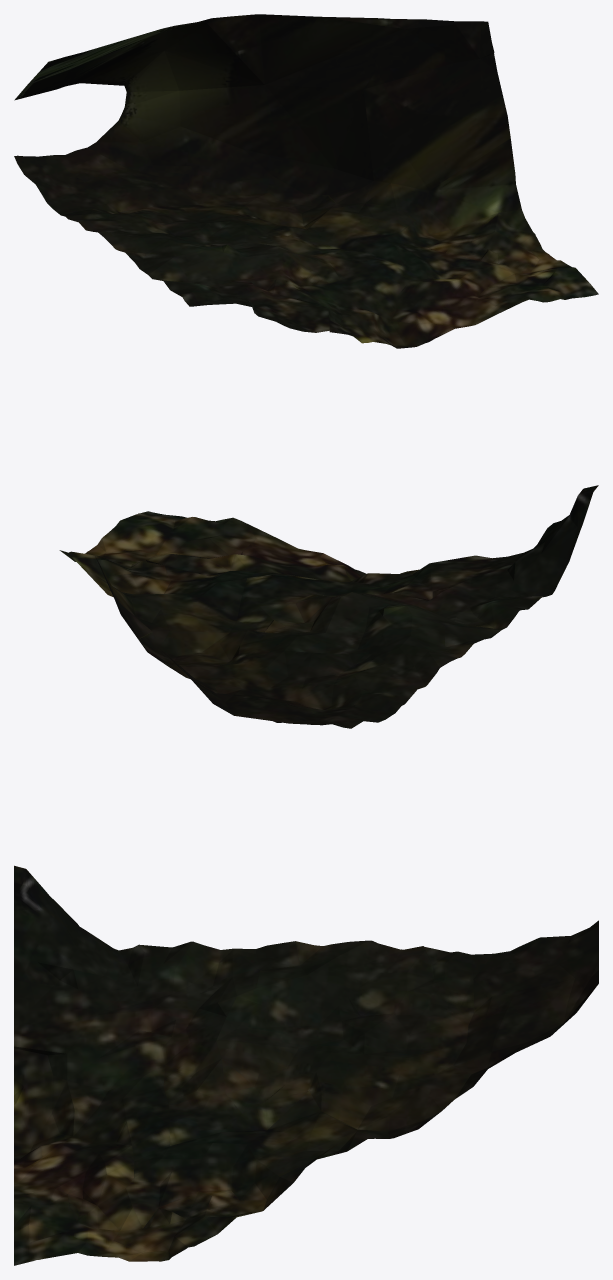
3 renders of one model, top to bottom at view 1: azimuth 30°, elevation 25°; view 2: azimuth 150°, elevation 25°; view 3: azimuth 270°, elevation 25°, orthographic. The views are drawn at different scales.
Size of the model in its own units: 1.67 by 0.8628 by 1.67.
Materials: 3 (3 with a texture image).
